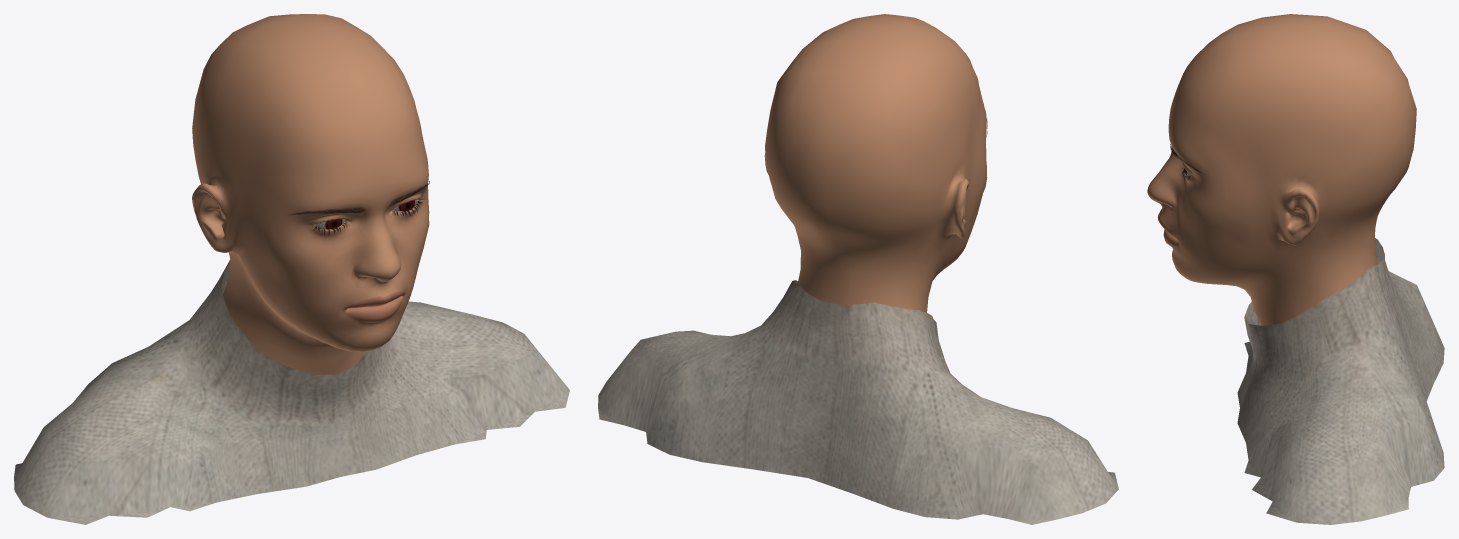
Rendered from neutral-03.glb.
3 renders of one model, left to right at view 1: azimuth 30°, elevation 25°; view 2: azimuth 150°, elevation 25°; view 3: azimuth 270°, elevation 25°, orthographic. The views are drawn at different scales.
Parts seen in each view (by area): view 1: mpfb-face.mindfront_knitted_sweater_01, mpfb-face; view 2: mpfb-face.mindfront_knitted_sweater_01, mpfb-face; view 3: mpfb-face, mpfb-face.mindfront_knitted_sweater_01.
Boxes of the visible parts, x1,y1,x2,y2 form: mpfb-face.mindfront_knitted_sweater_01: (14, 260, 569, 524); mpfb-face: (192, 14, 429, 374); mpfb-face.mindfront_knitted_sweater_01: (598, 280, 1118, 524); mpfb-face: (764, 14, 987, 312); mpfb-face: (1147, 14, 1416, 325); mpfb-face.mindfront_knitted_sweater_01: (1237, 238, 1444, 524).
Bounding box in the file's own units: 0.4309 × 0.33 × 0.2314.
8 materials, 6 textured.
